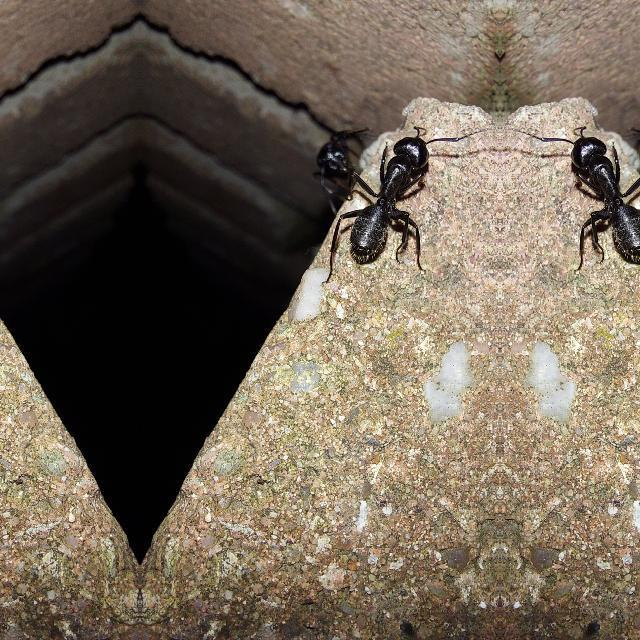Camponotus: (317, 105, 463, 273), (536, 105, 640, 273), (286, 117, 376, 213)
